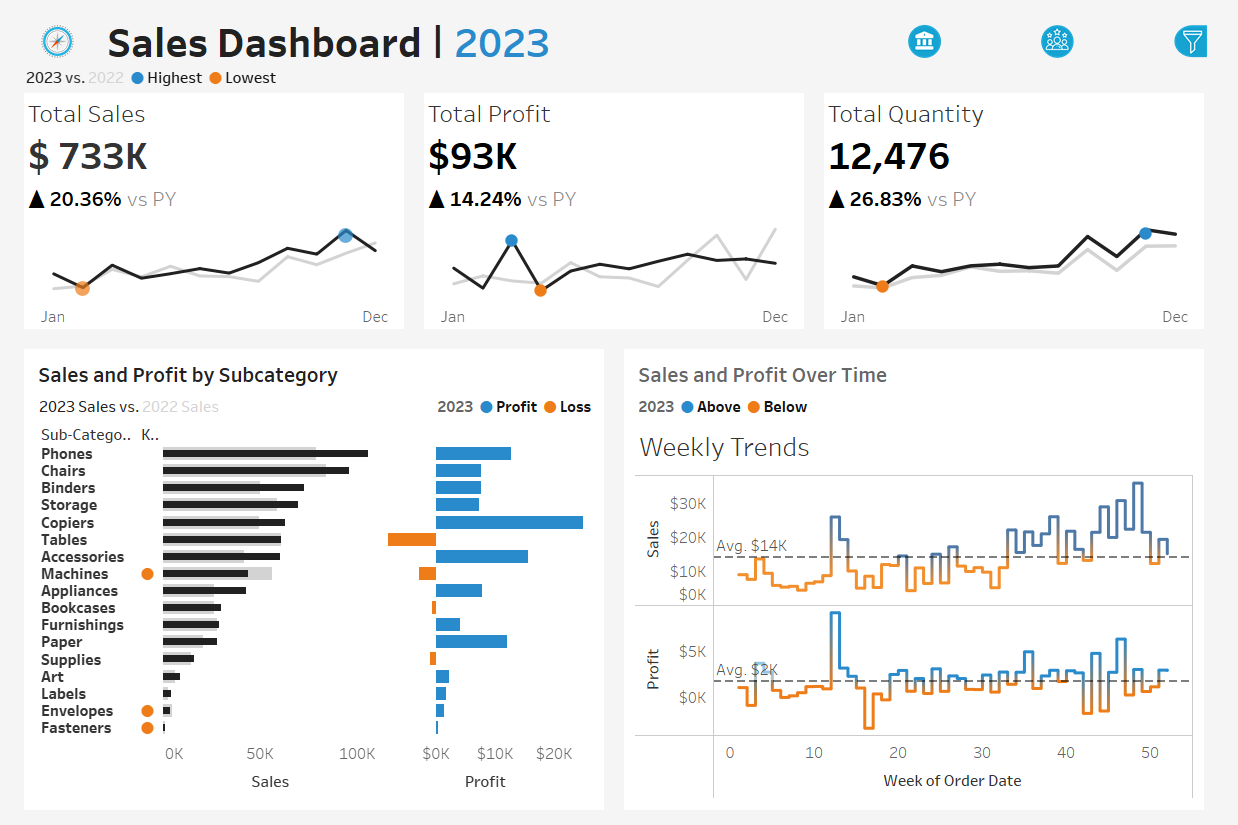

This screenshot's page, from the dashboard's own definition file:
{"tool":"tableau","page":{"name":"Sales Dashboard","canvas":[1200,800],"ordinal":1},"visuals":[{"type":"image","param":"C:/Users/Akash Paliwal/Downloads/Sales-Dashboard-Materials/Sales Dashboard Mater","box":[0,0,86,42]},{"type":"text","box":[86,0,660,42]},{"type":"dashboard-object","box":[843,0,134,42]},{"type":"dashboard-object","box":[977,0,133,42]},{"type":"worksheet","title":"Legend KPI","mark":"Automatic","box":[0,42,1200,31]},{"type":"parameter","param":"[Parameters].[Parameter 1]","box":[930,48,257,70]},{"type":"worksheet","title":"KPI Sales","mark":"Automatic","rows":["Calculation_863846748376920068"],"cols":["Order Date"],"box":[0,73,400,246]},{"type":"worksheet","title":"KPI Profit","mark":"Automatic","rows":["Calculation_863846748415356944"],"cols":["Order Date"],"box":[400,73,400,246]},{"type":"worksheet","title":"KPI Quantity","mark":"Automatic","rows":["Min/Max Sales (copy)_809803553181052932"],"cols":["Order Date"],"box":[800,73,400,246]},{"type":"text","box":[930,118,257,70]},{"type":"filter","title":"KPI Sales","param":"[federated.1g6lbct0ap08e71cuca1106mvlet].[none:Category:nk]","box":[930,188,257,70]},{"type":"filter","title":"KPI Sales","param":"[federated.1g6lbct0ap08e71cuca1106mvlet].[none:Sub-Category:nk]","box":[930,258,257,70]},{"type":"blank","box":[930,328,257,70]},{"type":"text","box":[17,336,566,36]},{"type":"text","box":[617,336,566,36]},{"type":"worksheet","title":"Legend Subcategory","mark":"Automatic","box":[17,372,399,29]},{"type":"text","box":[416,372,167,29]},{"type":"text","box":[617,372,566,29]},{"type":"text","box":[930,398,257,70]},{"type":"worksheet","title":"Subcategory Comparison","mark":"Bar","rows":["Sub-Category","Calculation_809803553193754631"],"cols":["Calculation_863846748366159873","Calculation_863846748364886016","Calculation_863846748409802765"],"box":[17,401,566,381.9]},{"type":"worksheet","title":"Weekly Trends","mark":"Automatic","rows":["Calculation_863846748364886016","Calculation_863846748409802765"],"cols":["Order Date"],"box":[617,401,566,382]},{"type":"filter","title":"KPI Sales","param":"[federated.1g6lbct0ap08e71cuca1106mvlet].[none:Region:nk]","box":[930,468,257,70]},{"type":"filter","title":"KPI Sales","param":"[federated.1g6lbct0ap08e71cuca1106mvlet].[none:State:nk]","box":[930,538,257,70]},{"type":"filter","title":"KPI Sales","param":"[federated.1g6lbct0ap08e71cuca1106mvlet].[none:City:nk]","box":[930,608,257,70]},{"type":"blank","box":[930,678,257,70]}]}

Visuals, with their boxes in screenshot pixels (x1, y1, x2, y2), scaled from the page's 1200x800 canvas onto the 1238x825 screenshot:
image: {"x1": 0, "y1": 0, "x2": 89, "y2": 43}
text: {"x1": 89, "y1": 0, "x2": 770, "y2": 43}
dashboard-object: {"x1": 870, "y1": 0, "x2": 1008, "y2": 43}
dashboard-object: {"x1": 1008, "y1": 0, "x2": 1145, "y2": 43}
"Legend KPI" worksheet: {"x1": 0, "y1": 43, "x2": 1237, "y2": 75}
parameter: {"x1": 959, "y1": 50, "x2": 1225, "y2": 122}
"KPI Sales" worksheet: {"x1": 0, "y1": 75, "x2": 413, "y2": 329}
"KPI Profit" worksheet: {"x1": 413, "y1": 75, "x2": 825, "y2": 329}
"KPI Quantity" worksheet: {"x1": 825, "y1": 75, "x2": 1237, "y2": 329}
text: {"x1": 959, "y1": 122, "x2": 1225, "y2": 194}
"KPI Sales" filter: {"x1": 959, "y1": 194, "x2": 1225, "y2": 266}
"KPI Sales" filter: {"x1": 959, "y1": 266, "x2": 1225, "y2": 338}
blank: {"x1": 959, "y1": 338, "x2": 1225, "y2": 410}
text: {"x1": 18, "y1": 346, "x2": 601, "y2": 384}
text: {"x1": 637, "y1": 346, "x2": 1220, "y2": 384}
"Legend Subcategory" worksheet: {"x1": 18, "y1": 384, "x2": 429, "y2": 414}
text: {"x1": 429, "y1": 384, "x2": 601, "y2": 414}
text: {"x1": 637, "y1": 384, "x2": 1220, "y2": 414}
text: {"x1": 959, "y1": 410, "x2": 1225, "y2": 483}
"Subcategory Comparison" worksheet (Bar marks): {"x1": 18, "y1": 414, "x2": 601, "y2": 807}
"Weekly Trends" worksheet: {"x1": 637, "y1": 414, "x2": 1220, "y2": 807}
"KPI Sales" filter: {"x1": 959, "y1": 483, "x2": 1225, "y2": 555}
"KPI Sales" filter: {"x1": 959, "y1": 555, "x2": 1225, "y2": 627}
"KPI Sales" filter: {"x1": 959, "y1": 627, "x2": 1225, "y2": 699}
blank: {"x1": 959, "y1": 699, "x2": 1225, "y2": 771}
